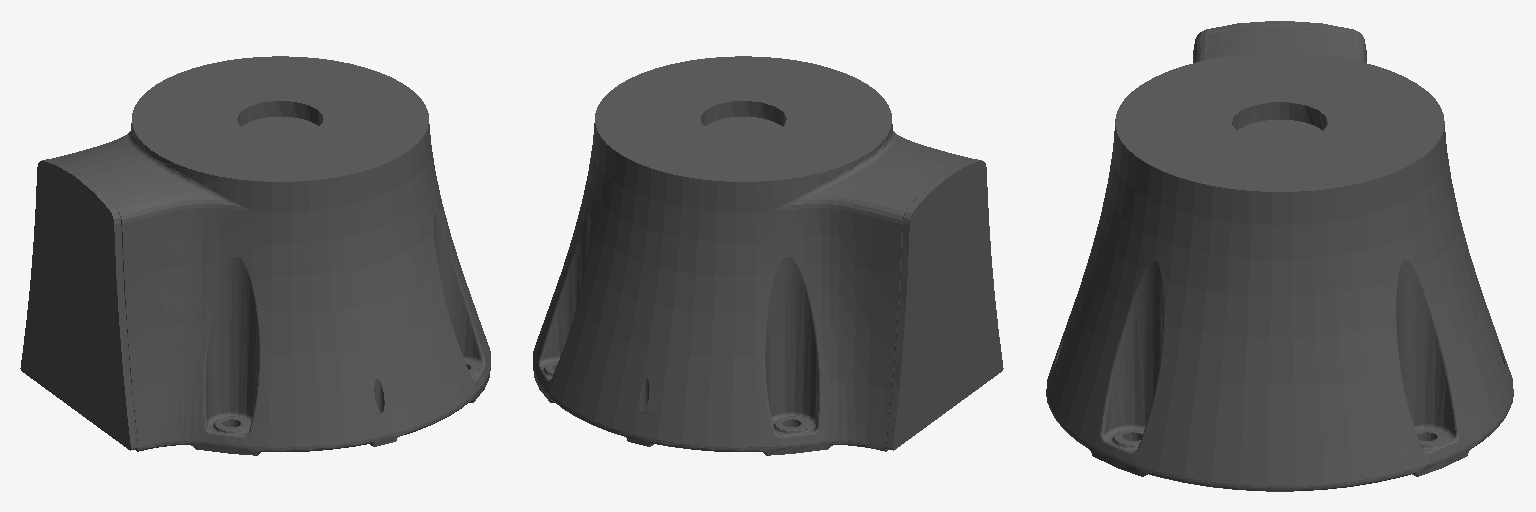
robot.urdf — iiwa14:
<?xml version="1.0" ?>
<!-- =================================================================================== -->
<!-- |    This document was autogenerated by xacro from iiwa14.urdf.xacro              | -->
<!-- |    EDITING THIS FILE BY HAND IS NOT RECOMMENDED                                 | -->
<!-- =================================================================================== -->
<robot name="iiwa14" xmlns:xacro="http://www.ros.org/wiki/xacro">
  <material name="Black">
    <color rgba="0.0 0.0 0.0 1.0"/>
  </material>
  <material name="Blue">
    <color rgba="0.0 0.0 0.8 1.0"/>
  </material>
  <material name="Green">
    <color rgba="0.0 0.8 0.0 1.0"/>
  </material>
  <material name="Grey">
    <color rgba="0.4 0.4 0.4 1.0"/>
  </material>
  <material name="Orange">
    <color rgba="1.0 0.423529411765 0.0392156862745 1.0"/>
  </material>
  <material name="Brown">
    <color rgba="0.870588235294 0.811764705882 0.764705882353 1.0"/>
  </material>
  <material name="Red">
    <color rgba="0.8 0.0 0.0 1.0"/>
  </material>
  <material name="White">
    <color rgba="1.0 1.0 1.0 1.0"/>
  </material>
  <gazebo reference="joint_0">
    <provideFeedback>true</provideFeedback>
  </gazebo>
  <gazebo reference="joint_1">
    <provideFeedback>true</provideFeedback>
  </gazebo>
  <gazebo reference="joint_2">
    <provideFeedback>true</provideFeedback>
  </gazebo>
  <gazebo reference="joint_3">
    <provideFeedback>true</provideFeedback>
  </gazebo>
  <gazebo reference="joint_4">
    <provideFeedback>true</provideFeedback>
  </gazebo>
  <gazebo reference="joint_5">
    <provideFeedback>true</provideFeedback>
  </gazebo>
  <gazebo reference="joint_6">
    <provideFeedback>true</provideFeedback>
  </gazebo>
  <!-- Fix to world just for testing -->
  <link name="base_link">
    <!--inertial>
      <origin rpy="0 0 0" xyz="-0.1 0 0.07"/>
      <mass value="5"/>
      <inertia ixx="0.05" ixy="0" ixz="0" iyy="0.06" iyz="0" izz="0.03"/>
    </inertial-->
    <visual>
      <origin rpy="0 0 0" xyz="0 0 0"/>
      <geometry>
        <mesh filename="package://iiwa_description/meshes/iiwa14/visual/link_0.stl"/>
      </geometry>
      <material name="Grey"/>
    </visual>
    <collision>
      <origin rpy="0 0 0" xyz="0 0 0"/>
      <geometry>
        <mesh filename="package://iiwa_description/meshes/iiwa14/collision/link_0_s.stl"/>
      </geometry>
      <material name="Grey"/>
    </collision>
    <self_collision_checking>
      <origin rpy="0 0 0" xyz="0 0 0"/>
      <geometry>
        <capsule length="0.25" radius="0.15"/>
      </geometry>
    </self_collision_checking>
  </link>
  <!-- joint between link_0 and link_1 -->
  <joint name="joint_0" type="revolute">
    <parent link="base_link"/>
    <child link="link_1"/>
    <origin rpy="0 0 0" xyz="0 0 0.1575"/>
    <axis xyz="0 0 1"/>
    <limit effort="300" lower="-2.96705972839" upper="2.96705972839" velocity="10"/>
    <safety_controller k_position="100" k_velocity="2" soft_lower_limit="-2.93215314335" soft_upper_limit="2.93215314335"/>
    <dynamics damping="0.0" friction="0.0"/>
  </joint>
  <link name="link_1">
    <inertial>
      <origin rpy="0 0 0" xyz="0 -0.03 0.12"/>
      <mass value="4"/>
      <inertia ixx="0.1" ixy="0" ixz="0" iyy="0.09" iyz="0" izz="0.02"/>
    </inertial>
    <visual>
      <origin rpy="0 0 0" xyz="0 0 0"/>
      <geometry>
        <mesh filename="package://iiwa_description/meshes/iiwa14/visual/link_1.stl"/>
      </geometry>
      <material name="Orange"/>
    </visual>
    <collision>
      <origin rpy="0 0 0" xyz="0 0 0"/>
      <geometry>
        <mesh filename="package://iiwa_description/meshes/iiwa14/collision/link_1_s.stl"/>
      </geometry>
      <material name="Orange"/>
    </collision>
  </link>
  <!-- joint between link_1 and link_2 -->
  <joint name="joint_1" type="revolute">
    <parent link="link_1"/>
    <child link="link_2"/>
    <origin rpy="1.57079632679   0 3.14159265359" xyz="0 0 0.2025"/>
    <axis xyz="0 0 1"/>
    <limit effort="300" lower="-2.09439510239" upper="2.09439510239" velocity="10"/>
    <safety_controller k_position="100" k_velocity="2" soft_lower_limit="-2.05948851735" soft_upper_limit="2.05948851735"/>
    <dynamics damping="0.0" friction="0.0"/>
  </joint>
  <link name="link_2">
    <inertial>
      <origin rpy="0 0 0" xyz="0.0003 0.059 0.042"/>
      <mass value="4"/>
      <inertia ixx="0.05" ixy="0" ixz="0" iyy="0.018" iyz="0" izz="0.044"/>
    </inertial>
    <visual>
      <origin rpy="0 0 0" xyz="0 0 0"/>
      <geometry>
        <mesh filename="package://iiwa_description/meshes/iiwa14/visual/link_2.stl"/>
      </geometry>
      <material name="Grey"/>
    </visual>
    <collision>
      <origin rpy="0 0 0" xyz="0 0 0"/>
      <geometry>
        <mesh filename="package://iiwa_description/meshes/iiwa14/collision/link_2_s.stl"/>
      </geometry>
      <material name="Grey"/>
    </collision>
  </link>
  <!-- joint between link_2 and link_3 -->
  <joint name="joint_2" type="revolute">
    <parent link="link_2"/>
    <child link="link_3"/>
    <origin rpy="1.57079632679 0 3.14159265359" xyz="0 0.2045 0"/>
    <axis xyz="0 0 1"/>
    <limit effort="300" lower="-2.96705972839" upper="2.96705972839" velocity="10"/>
    <safety_controller k_position="100" k_velocity="2" soft_lower_limit="-2.93215314335" soft_upper_limit="2.93215314335"/>
    <dynamics damping="0.0" friction="0.0"/>
  </joint>
  <link name="link_3">
    <inertial>
      <origin rpy="0 0 0" xyz="0 0.03 0.13"/>
      <mass value="3"/>
      <inertia ixx="0.08" ixy="0" ixz="0" iyy="0.075" iyz="0" izz="0.01"/>
    </inertial>
    <visual>
      <origin rpy="0 0 0" xyz="0 0 0"/>
      <geometry>
        <mesh filename="package://iiwa_description/meshes/iiwa14/visual/link_3.stl"/>
      </geometry>
      <material name="Orange"/>
    </visual>
    <collision>
      <origin rpy="0 0 0" xyz="0 0 0"/>
      <geometry>
        <mesh filename="package://iiwa_description/meshes/iiwa14/collision/link_3_s.stl"/>
      </geometry>
      <material name="Orange"/>
    </collision>
  </link>
  <!-- joint between link_3 and link_4 -->
  <joint name="joint_3" type="revolute">
    <parent link="link_3"/>
    <child link="link_4"/>
    <origin rpy="1.57079632679 0 0" xyz="0 0 0.2155"/>
    <axis xyz="0 0 1"/>
    <limit effort="300" lower="-2.09439510239" upper="2.09439510239" velocity="10"/>
    <safety_controller k_position="100" k_velocity="2" soft_lower_limit="-2.05948851735" soft_upper_limit="2.05948851735"/>
    <dynamics damping="0.0" friction="0.0"/>
  </joint>
  <link name="link_4">
    <inertial>
      <origin rpy="0 0 0" xyz="0 0.067 0.034"/>
      <mass value="2.7"/>
      <inertia ixx="0.03" ixy="0" ixz="0" iyy="0.01" iyz="0" izz="0.029"/>
    </inertial>
    <visual>
      <origin rpy="0 0 0" xyz="0 0 0"/>
      <geometry>
        <mesh filename="package://iiwa_description/meshes/iiwa14/visual/link_4.stl"/>
      </geometry>
      <material name="Grey"/>
    </visual>
    <collision>
      <origin rpy="0 0 0" xyz="0 0 0"/>
      <geometry>
        <mesh filename="package://iiwa_description/meshes/iiwa14/collision/link_4_s.stl"/>
      </geometry>
      <material name="Grey"/>
    </collision>
  </link>
  <!-- joint between link_4 and link_5 -->
  <joint name="joint_4" type="revolute">
    <parent link="link_4"/>
    <child link="link_5"/>
    <origin rpy="-1.57079632679 3.14159265359 0" xyz="0 0.1845 0"/>
    <axis xyz="0 0 1"/>
    <limit effort="300" lower="-2.96705972839" upper="2.96705972839" velocity="10"/>
    <safety_controller k_position="100" k_velocity="2" soft_lower_limit="-2.93215314335" soft_upper_limit="2.93215314335"/>
    <dynamics damping="0.0" friction="0.0"/>
  </joint>
  <link name="link_5">
    <inertial>
      <origin rpy="0 0 0" xyz="0.0001 0.021 0.076"/>
      <mass value="1.7"/>
      <inertia ixx="0.02" ixy="0" ixz="0" iyy="0.018" iyz="0" izz="0.005"/>
    </inertial>
    <visual>
      <origin rpy="0 0 0" xyz="0 0 0"/>
      <geometry>
        <mesh filename="package://iiwa_description/meshes/iiwa14/visual/link_5.stl"/>
      </geometry>
      <material name="Orange"/>
    </visual>
    <collision>
      <origin rpy="0 0 0" xyz="0 0 0"/>
      <geometry>
        <mesh filename="package://iiwa_description/meshes/iiwa14/collision/link_5_s.stl"/>
      </geometry>
      <material name="Orange"/>
    </collision>
  </link>
  <!-- joint between link_5 and link_6 -->
  <joint name="joint_5" type="revolute">
    <parent link="link_5"/>
    <child link="link_6"/>
    <origin rpy="1.57079632679 0 0" xyz="0 0 0.2155"/>
    <axis xyz="0 0 1"/>
    <limit effort="300" lower="-2.09439510239" upper="2.09439510239" velocity="10"/>
    <safety_controller k_position="100" k_velocity="2" soft_lower_limit="-2.05948851735" soft_upper_limit="2.05948851735"/>
    <dynamics damping="0.0" friction="0.0"/>
  </joint>
  <link name="link_6">
    <inertial>
      <origin rpy="0 0 0" xyz="0 0.0006 0.0004"/>
      <mass value="1.8"/>
      <inertia ixx="0.025" ixy="0" ixz="0" iyy="0.0136" iyz="0" izz="0.0247"/>
    </inertial>
    <visual>
      <origin rpy="0 0 0" xyz="0 0 0"/>
      <geometry>
        <mesh filename="package://iiwa_description/meshes/iiwa14/visual/link_6.stl"/>
      </geometry>
      <material name="Grey"/>
    </visual>
    <collision>
      <origin rpy="0 0 0" xyz="0 0 0"/>
      <geometry>
        <mesh filename="package://iiwa_description/meshes/iiwa14/collision/link_6_s.stl"/>
      </geometry>
      <material name="Grey"/>
    </collision>
  </link>
  <!-- joint between link_6 and link_7 -->
  <joint name="joint_6" type="revolute">
    <parent link="link_6"/>
    <child link="link_7"/>
    <origin rpy="-1.57079632679 3.14159265359 0" xyz="0 0.081 0"/>
    <axis xyz="0 0 1"/>
    <limit effort="300" lower="-3.05432619099" upper="3.05432619099" velocity="10"/>
    <safety_controller k_position="100" k_velocity="2" soft_lower_limit="-3.01941960595" soft_upper_limit="3.01941960595"/>
    <dynamics damping="0.0" friction="0.0"/>
  </joint>
  <link name="link_7">
    <inertial>
      <origin rpy="0 0 0" xyz="0 0 0.02"/>
      <mass value="0.428571428571"/>
      <!--this is for the MFT Pneumatisch flange-->
      <inertia ixx="0.01" ixy="0" ixz="0" iyy="0.01" iyz="0" izz="0.01"/>
    </inertial>
    <visual>
      <origin rpy="0 0 0" xyz="0 0 0"/>
      <geometry>
        <!--           <mesh filename="package://iiwa_description/meshes/iiwa14/visual/link_7.stl"/> -->
        <mesh filename="package://iiwa_description/meshes/iiwa14/visual/link_7-MF-Touch-pneumatisch.stl"/>
      </geometry>
      <material name="Grey"/>
    </visual>
    <collision>
      <origin rpy="0 0 0" xyz="0 0 0"/>
      <geometry>
        <!--           <mesh filename="package://iiwa_description/meshes/iiwa14/collision/link_7_s.stl"/> -->
        <mesh filename="package://iiwa_description/meshes/iiwa14/collision/link_7-MF-Touch-pneumatisch_s.stl"/>
      </geometry>
      <material name="Grey"/>
    </collision>
  </link>
  <!-- Load Gazebo lib and set the robot namespace -->
  <gazebo>
  </gazebo>
  <!-- Link0 -->
  <gazebo reference="link_0">
    <material>Gazebo/Grey</material>
    <mu1>0.2</mu1>
    <mu2>0.2</mu2>
  </gazebo>
  <!-- Link1 -->
  <gazebo reference="link_1">
    <material>Gazebo/Orange</material>
    <mu1>0.2</mu1>
    <mu2>0.2</mu2>
  </gazebo>
  <!-- Link2 -->
  <gazebo reference="link_2">
    <material>Gazebo/Grey</material>
    <mu1>0.2</mu1>
    <mu2>0.2</mu2>
  </gazebo>
  <!-- Link3 -->
  <gazebo reference="link_3">
    <material>Gazebo/Orange</material>
    <mu1>0.2</mu1>
    <mu2>0.2</mu2>
  </gazebo>
  <!-- Link4 -->
  <gazebo reference="link_4">
    <material>Gazebo/Grey</material>
    <mu1>0.2</mu1>
    <mu2>0.2</mu2>
  </gazebo>
  <!-- Link5 -->
  <gazebo reference="link_5">
    <material>Gazebo/Orange</material>
    <mu1>0.2</mu1>
    <mu2>0.2</mu2>
  </gazebo>
  <!-- Link6 -->
  <gazebo reference="link_6">
    <material>Gazebo/Grey</material>
    <mu1>0.2</mu1>
    <mu2>0.2</mu2>
  </gazebo>
  <!-- Link7 -->
  <gazebo reference="link_7">
    <material>Gazebo/Grey</material>
    <mu1>0.2</mu1>
    <mu2>0.2</mu2>
  </gazebo>
  <transmission name="iiwa_tran_0">
    <type>transmission_interface/SimpleTransmission</type>
    <joint name="joint_0">
      <hardwareInterface>PositionJointInterface</hardwareInterface>
    </joint>
    <actuator name="iiwa_motor_0">
      <hardwareInterface>PositionJointInterface</hardwareInterface>
      <mechanicalReduction>1</mechanicalReduction>
    </actuator>
  </transmission>
  <transmission name="iiwa_tran_1">
    <type>transmission_interface/SimpleTransmission</type>
    <joint name="joint_1">
      <hardwareInterface>PositionJointInterface</hardwareInterface>
    </joint>
    <actuator name="iiwa_motor_1">
      <hardwareInterface>PositionJointInterface</hardwareInterface>
      <mechanicalReduction>1</mechanicalReduction>
    </actuator>
  </transmission>
  <transmission name="iiwa_tran_2">
    <type>transmission_interface/SimpleTransmission</type>
    <joint name="joint_2">
      <hardwareInterface>PositionJointInterface</hardwareInterface>
    </joint>
    <actuator name="iiwa_motor_2">
      <hardwareInterface>PositionJointInterface</hardwareInterface>
      <mechanicalReduction>1</mechanicalReduction>
    </actuator>
  </transmission>
  <transmission name="iiwa_tran_3">
    <type>transmission_interface/SimpleTransmission</type>
    <joint name="joint_3">
      <hardwareInterface>PositionJointInterface</hardwareInterface>
    </joint>
    <actuator name="iiwa_motor_3">
      <hardwareInterface>PositionJointInterface</hardwareInterface>
      <mechanicalReduction>1</mechanicalReduction>
    </actuator>
  </transmission>
  <transmission name="iiwa_tran_4">
    <type>transmission_interface/SimpleTransmission</type>
    <joint name="joint_4">
      <hardwareInterface>PositionJointInterface</hardwareInterface>
    </joint>
    <actuator name="iiwa_motor_4">
      <hardwareInterface>PositionJointInterface</hardwareInterface>
      <mechanicalReduction>1</mechanicalReduction>
    </actuator>
  </transmission>
  <transmission name="iiwa_tran_5">
    <type>transmission_interface/SimpleTransmission</type>
    <joint name="joint_5">
      <hardwareInterface>PositionJointInterface</hardwareInterface>
    </joint>
    <actuator name="iiwa_motor_5">
      <hardwareInterface>PositionJointInterface</hardwareInterface>
      <mechanicalReduction>1</mechanicalReduction>
    </actuator>
  </transmission>
  <transmission name="iiwa_tran_6">
    <type>transmission_interface/SimpleTransmission</type>
    <joint name="joint_6">
      <hardwareInterface>PositionJointInterface</hardwareInterface>
    </joint>
    <actuator name="iiwa_motor_6">
      <hardwareInterface>PositionJointInterface</hardwareInterface>
      <mechanicalReduction>1</mechanicalReduction>
    </actuator>
  </transmission>
</robot>

--- Facts derived from the render (not from the file) ---
The picture shows the robot from 3 angles, left to right: view 1: azimuth 30°, elevation 25°; view 2: azimuth 150°, elevation 25°; view 3: azimuth 270°, elevation 25°; orthographic projection.
Robot: iiwa14 — 8 links, 7 joints (7 revolute); root link base_link; default pose: every joint at zero.
Links seen in each view (by area): view 1: base_link; view 2: base_link; view 3: base_link.
Boxes of the visible links, <box> form: base_link: <box>20,56,490,455</box>; base_link: <box>533,56,1003,455</box>; base_link: <box>1046,21,1513,491</box>.
Size in the robot's own frame: 0.2572 by 0.2428 by 0.1575 metres.
Meshes: 8 distinct files referenced, 1 mesh visuals loaded (1 binary STL); not drawn: 7 (reference not matched to a file when rendering).